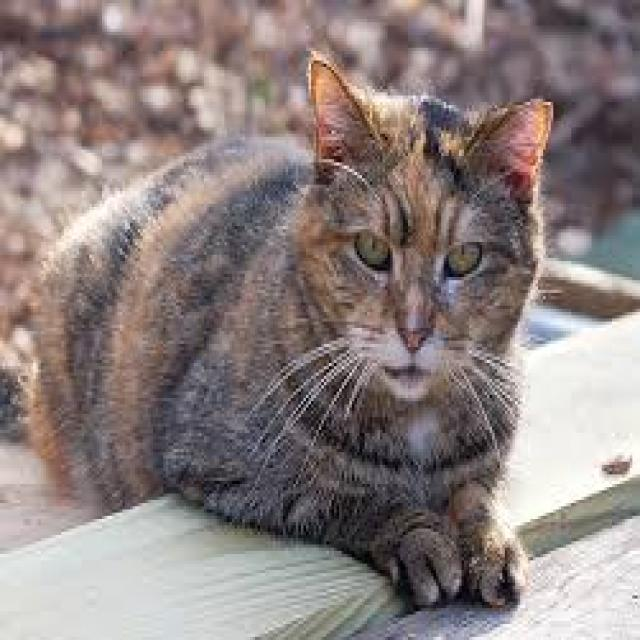cat: (39, 55, 549, 606)
